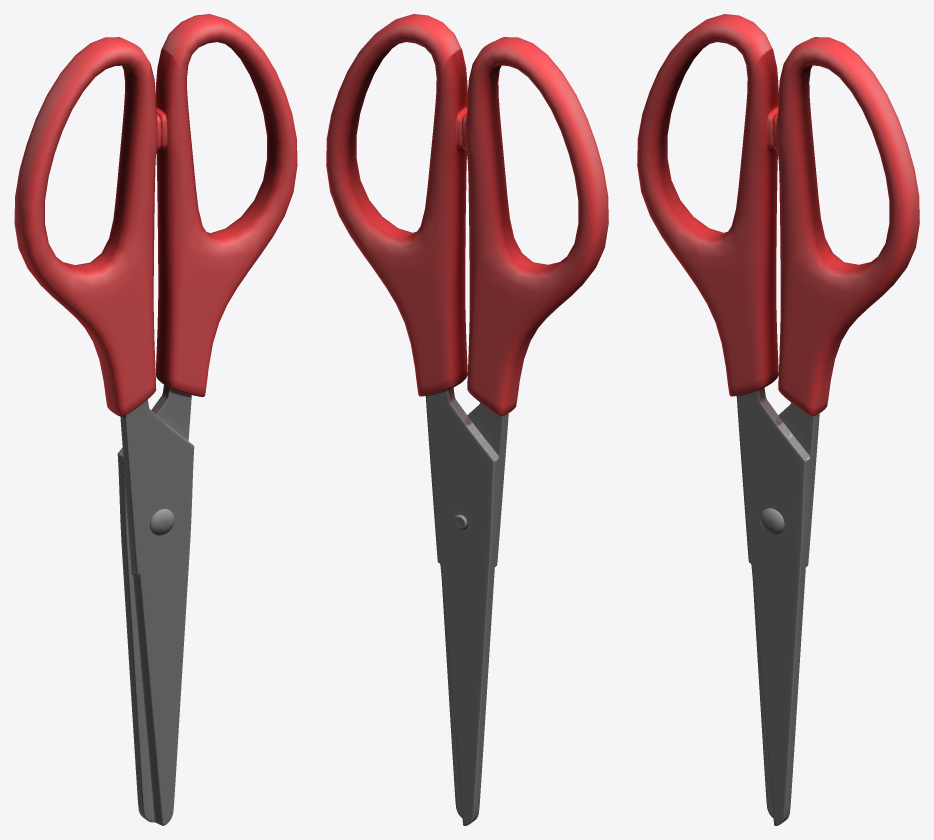
The model's file is scissors.fbx.
The picture shows the model from 3 angles, left to right: view 1: azimuth 30°, elevation 25°; view 2: azimuth 150°, elevation 25°; view 3: azimuth 330°, elevation 25°; orthographic projection.
Parts seen in each view (by area): view 1: scissor; view 2: scissor; view 3: scissor.
Part boxes in pixels (x1,y1,x2,y2): scissor: (14, 14, 297, 825); scissor: (326, 14, 608, 825); scissor: (637, 14, 919, 825).
Bounding box in the file's own units: 21.82 × 60.38 × 2.48.
1 material, 1 textured.
